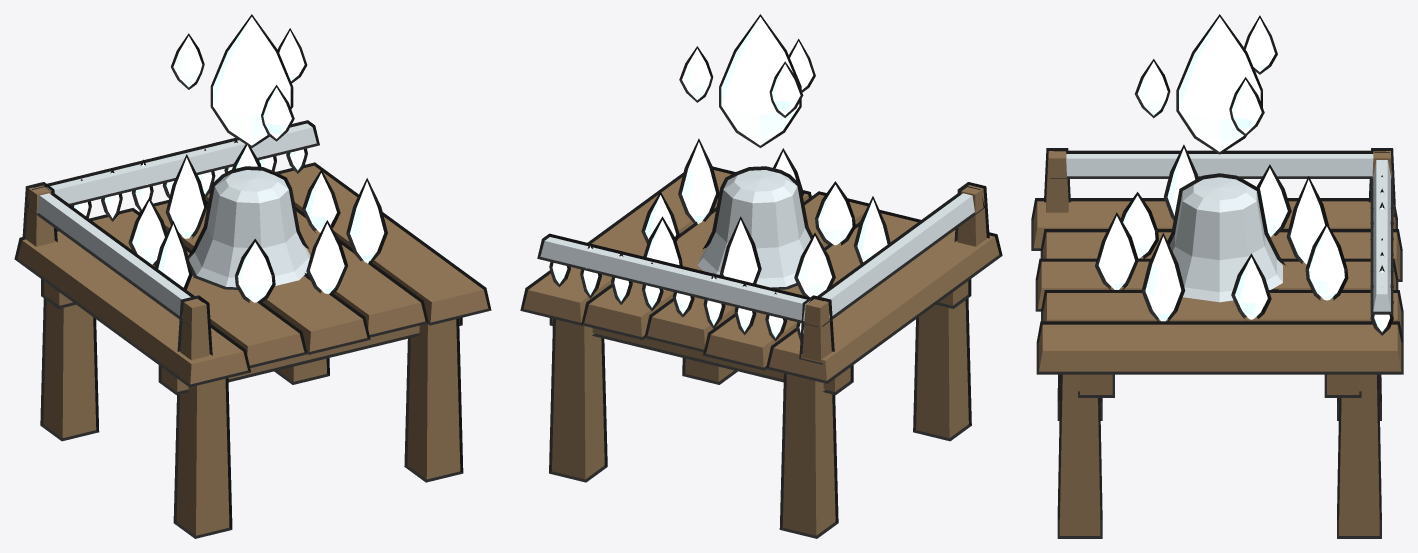
Rendered from td_frost.fbx.
3 renders of one model, left to right at view 1: azimuth 30°, elevation 25°; view 2: azimuth 150°, elevation 25°; view 3: azimuth 270°, elevation 25°, orthographic. The views are drawn at different scales.
Parts seen in each view (by area): view 1: Prop_FrostOutpost, Prop_FrostCrystal; view 2: Prop_FrostOutpost, Prop_FrostCrystal; view 3: Prop_FrostOutpost, Prop_FrostCrystal.
Part boxes in pixels (x1=…): Prop_FrostOutpost: x1=14, y1=120, x2=491, y2=538; Prop_FrostCrystal: x1=171, y1=14, x2=307, y2=147; Prop_FrostOutpost: x1=520, y1=138, x2=1002, y2=538; Prop_FrostCrystal: x1=679, y1=14, x2=815, y2=147; Prop_FrostOutpost: x1=1031, y1=144, x2=1403, y2=538; Prop_FrostCrystal: x1=1135, y1=14, x2=1277, y2=154.
Size of the model in its own units: 113 by 155 by 115.
